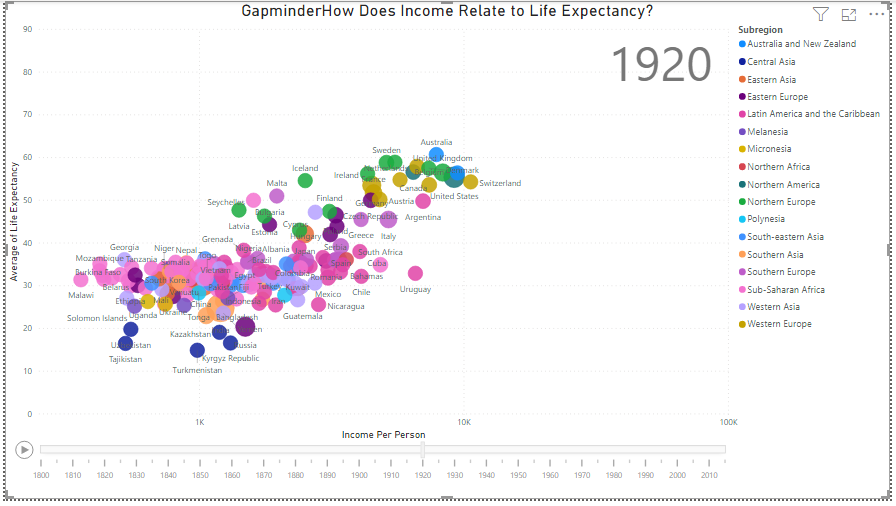

The dashboard page shown, as its layout file describes it:
{"tool":"powerbi","page":{"name":"Page 1","canvas":[1280,720],"ordinal":0},"visuals":[{"type":"scatterChart","title":"GapminderHow Does Income Relate to Life Expectancy?","fields":{"Size":["Sum(gapminder.Population)"],"X":["Sum(gapminder.Income Per Person)"],"Y":["Avg(gapminder.Life Expectancy)"],"Play":["gapminder.Year"],"Category":["gapminder.Country"],"Series":["region.Subregion"]},"box":[0,0,1280,719.6],"z":0}]}

Visuals, with their boxes in screenshot pixels (x1, y1, x2, y2), scaled from the page's 1280x720 canvas onto the 896x506 screenshot:
"GapminderHow Does Income Relate to Life Expectancy?" scatterChart: (0, 0, 895, 505)
